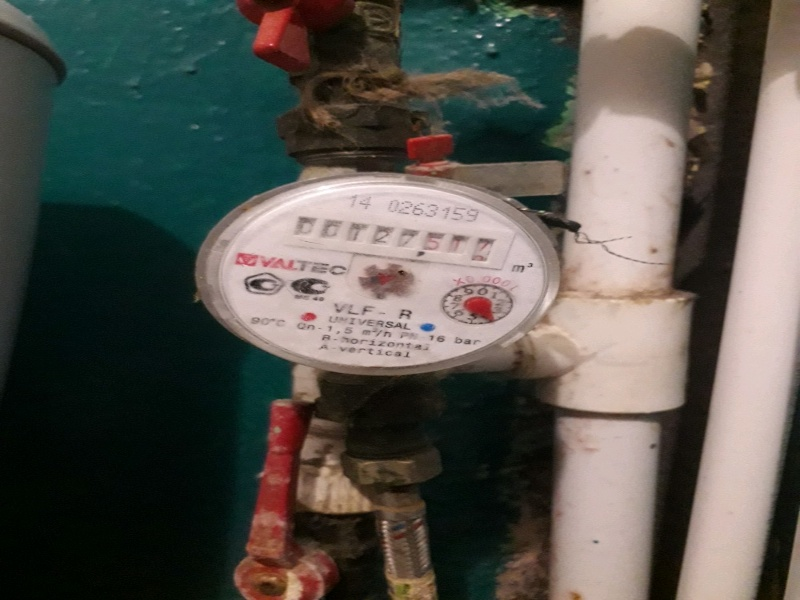meter: (293, 214, 503, 266)
